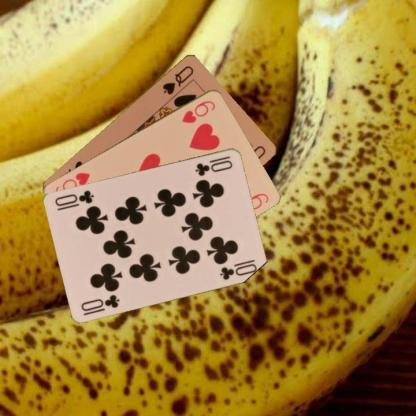10c: (78, 291, 122, 312), (192, 158, 234, 178)
6h: (179, 97, 217, 124)
Qs: (160, 62, 195, 96)
